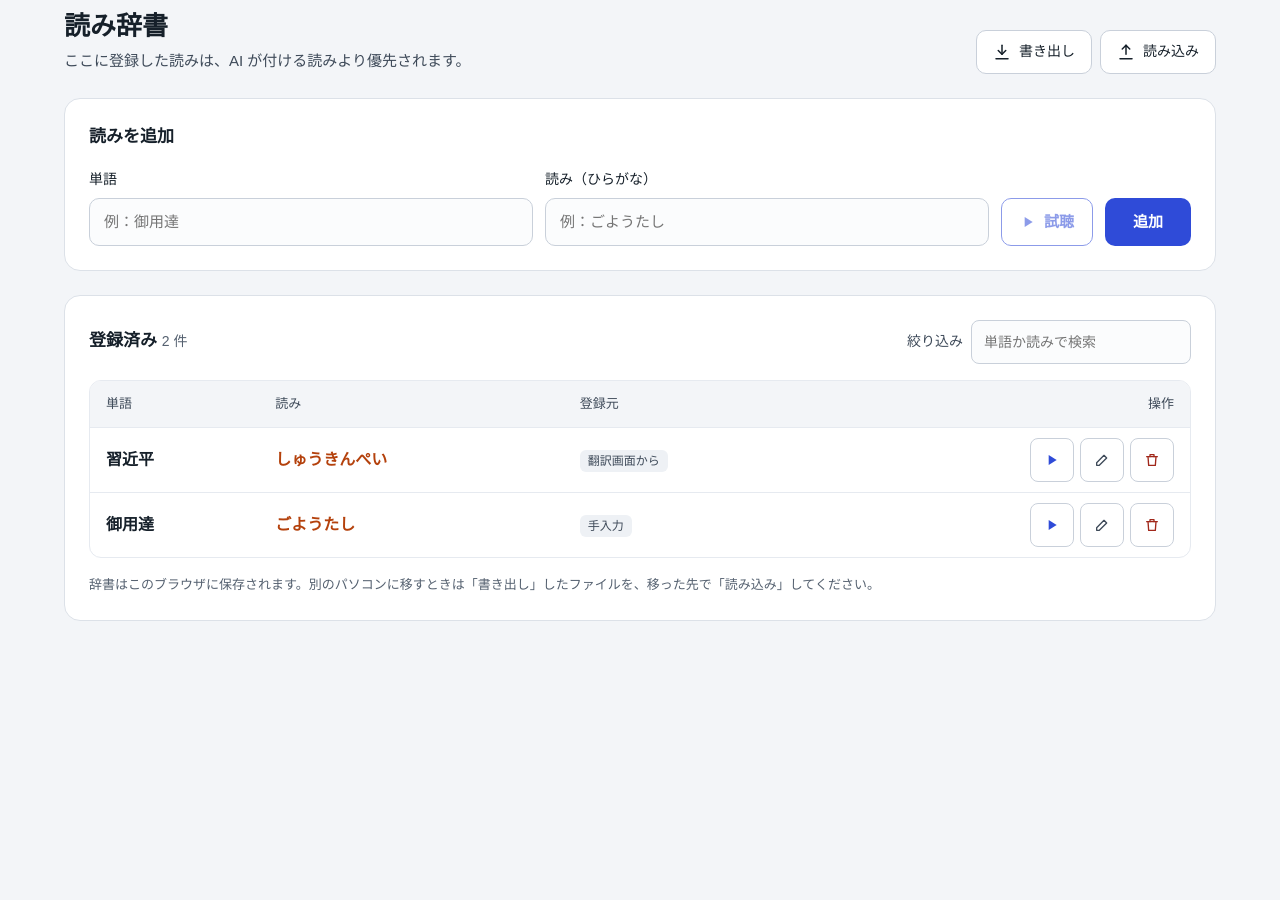
Test: Dictionary 追加 › ひらがなの読みなら手入力として追加し、一覧に出す
The image size is (1280, 900).
Step 1. Type "東海林" into the field labelled "単語" → (311, 222), box left=89, top=198, right=533, bottom=246
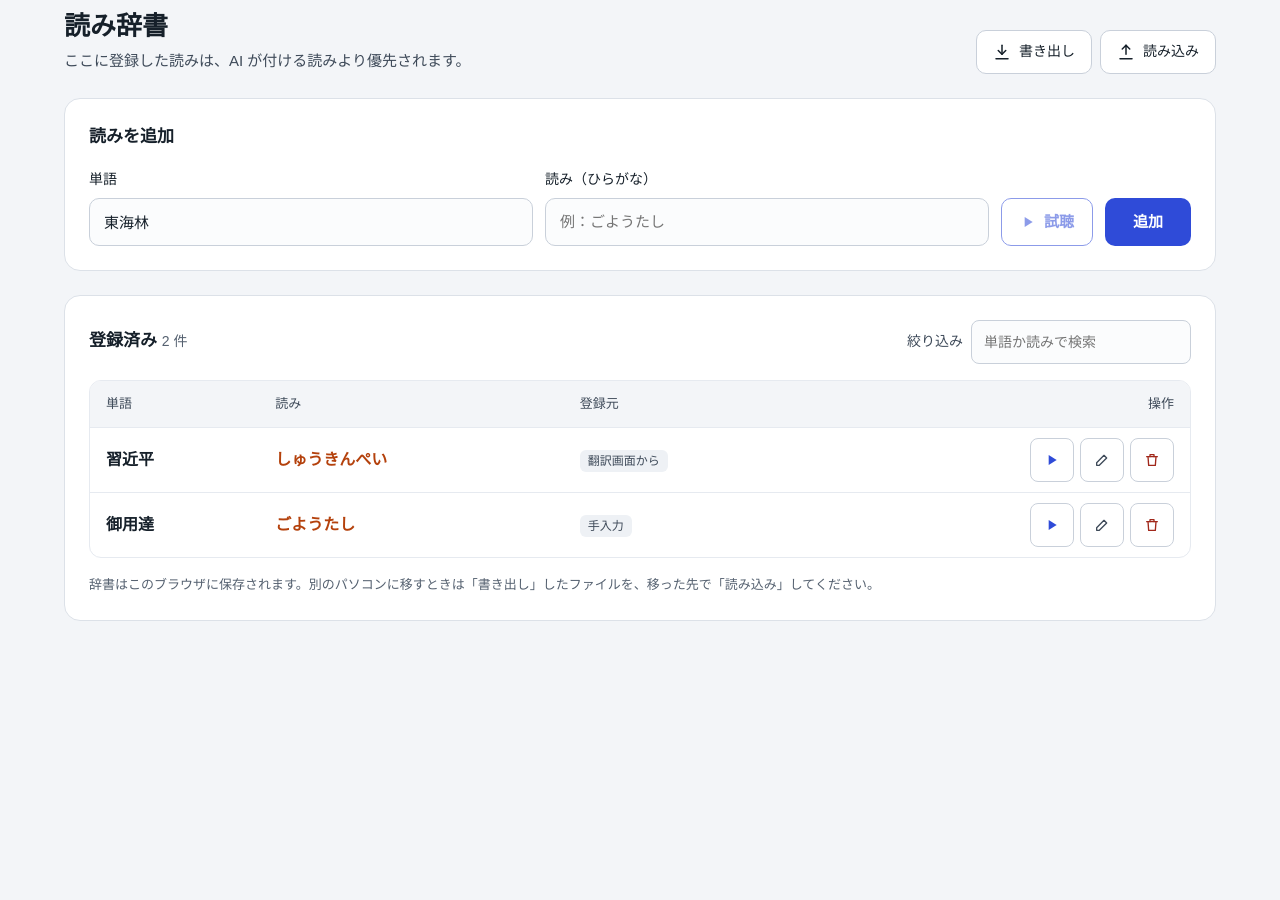
Step 2. Type "しょうじ" into the field labelled "読み（ひらがな）" → (767, 222), box left=545, top=198, right=989, bottom=246
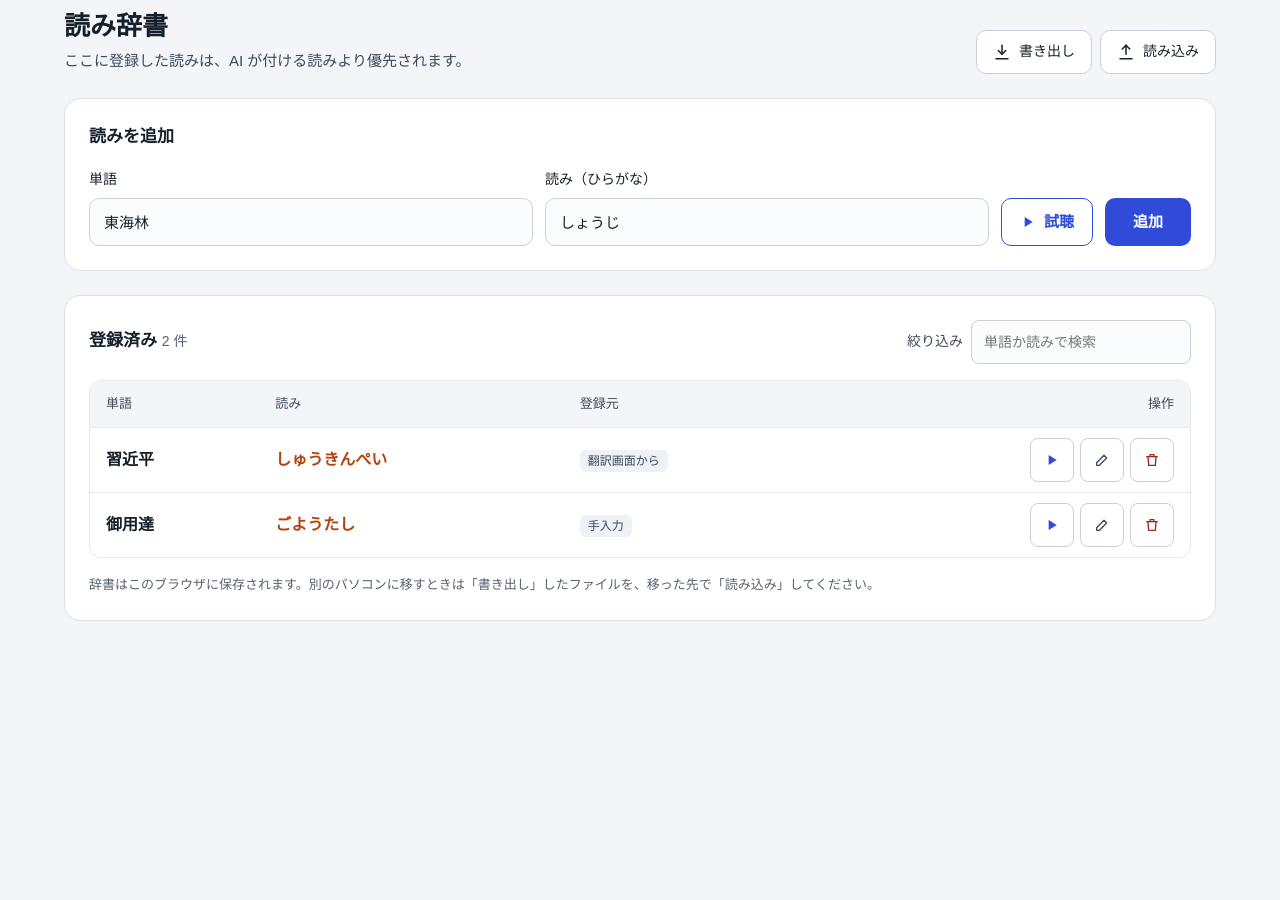
Step 3. Click the button "追加" → (1148, 222), box left=1105, top=198, right=1191, bottom=246
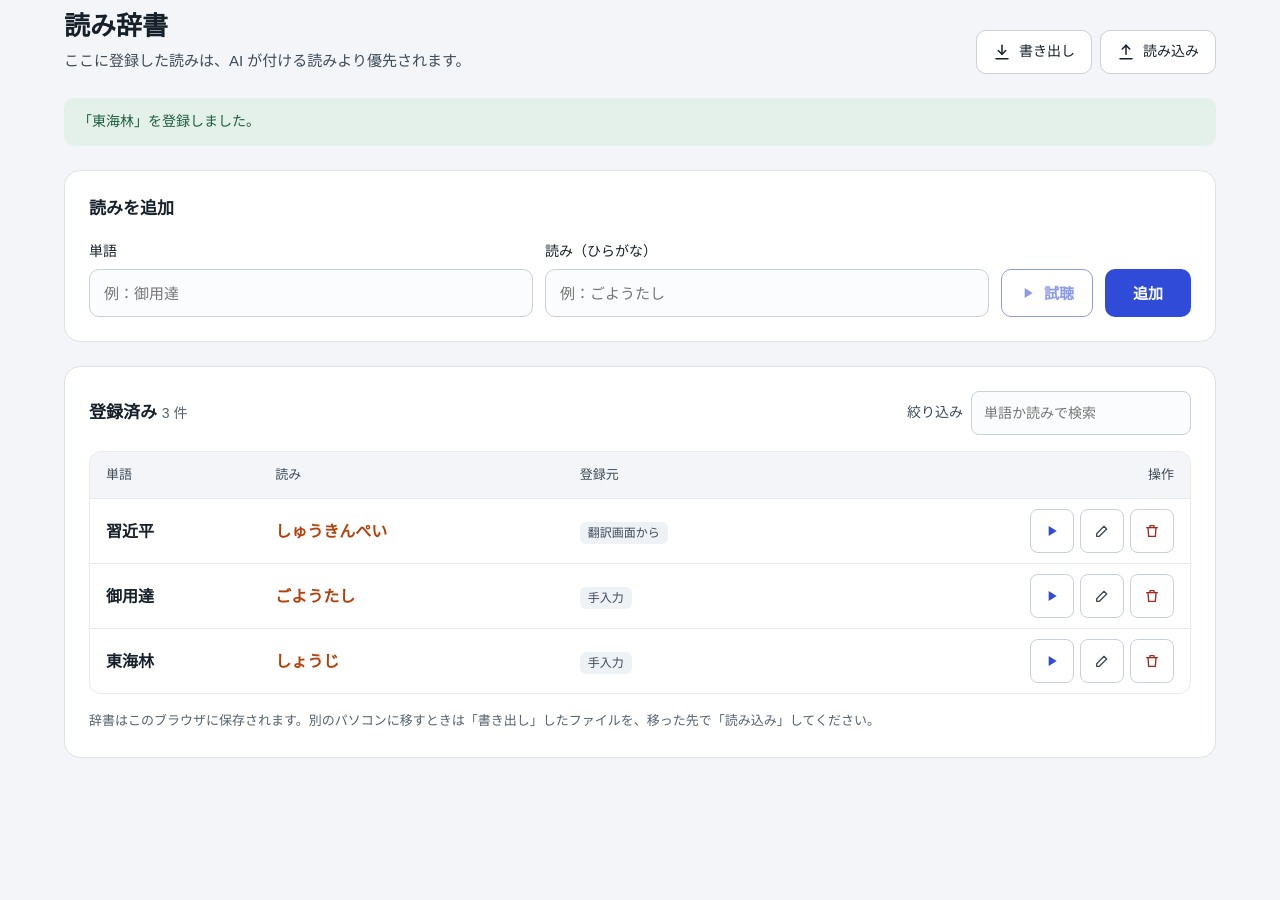
Expected: the cell "東海林" is shown, left=90, top=629, right=259, bottom=694
Expected: the text "3 件" is shown, left=162, top=405, right=187, bottom=421
Expected: the field labelled "単語" is empty, left=89, top=269, right=533, bottom=317
